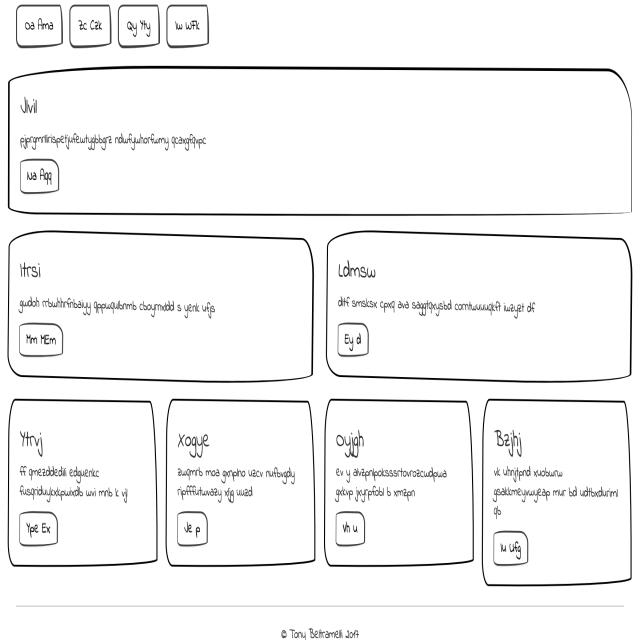Button: (15, 506, 64, 552), (16, 319, 65, 363), (490, 523, 532, 573), (15, 156, 64, 194), (334, 319, 374, 363), (174, 507, 212, 551), (332, 510, 370, 551)
Card: (3, 58, 636, 220), (0, 228, 316, 390), (325, 230, 636, 390), (480, 395, 637, 592), (4, 397, 161, 575), (323, 391, 476, 573), (164, 392, 317, 573)
Footer: (0, 589, 640, 640)
Heading 6: (173, 420, 214, 460), (332, 422, 371, 464), (333, 258, 380, 290), (492, 420, 528, 456), (12, 424, 49, 459), (15, 250, 46, 286), (10, 90, 47, 120)
Navigation Bar: (12, 0, 216, 54)
Paragraph: (487, 463, 625, 522), (16, 290, 220, 323), (16, 124, 210, 156), (172, 459, 300, 505), (334, 290, 537, 318), (15, 462, 140, 506), (330, 463, 453, 505)
